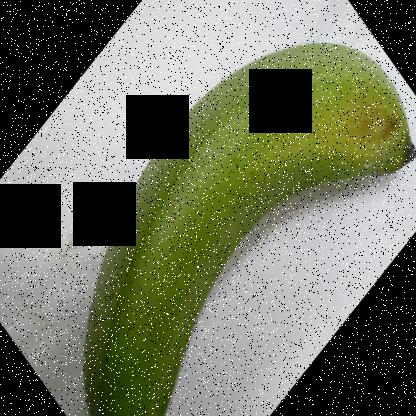freshunripe: (72, 31, 415, 415)
